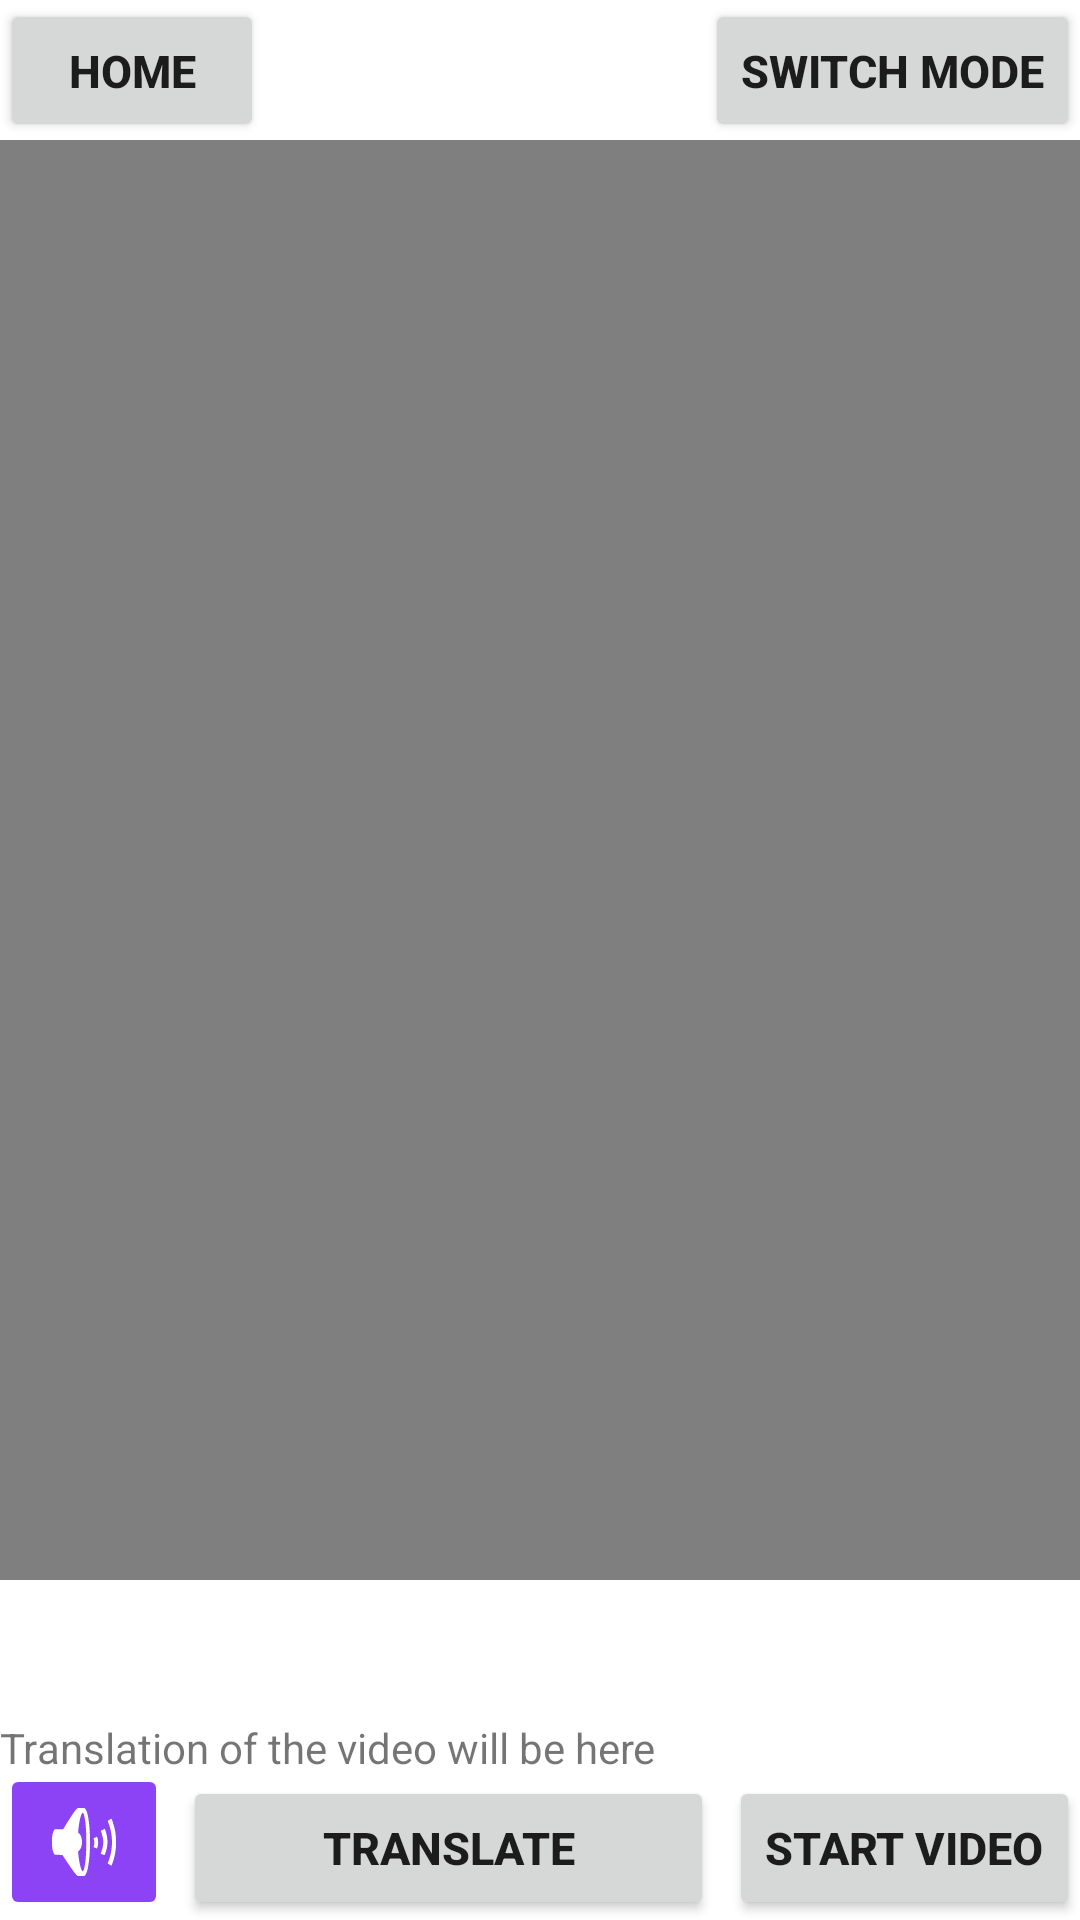

Named icons in this screenshot (1080 x 1920) and their bounding boxes, [x1=x1, y1=y1, x2=x2, y2=y2]:
lock silent mode off: [x1=12, y1=1782, x2=156, y2=1902]
